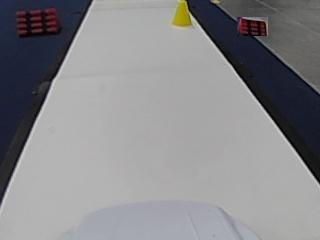cone: (172, 3, 191, 26)
